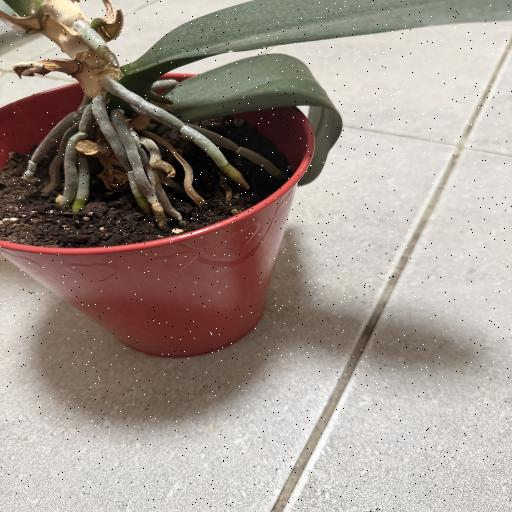Plant Pot: (0, 74, 318, 357)
